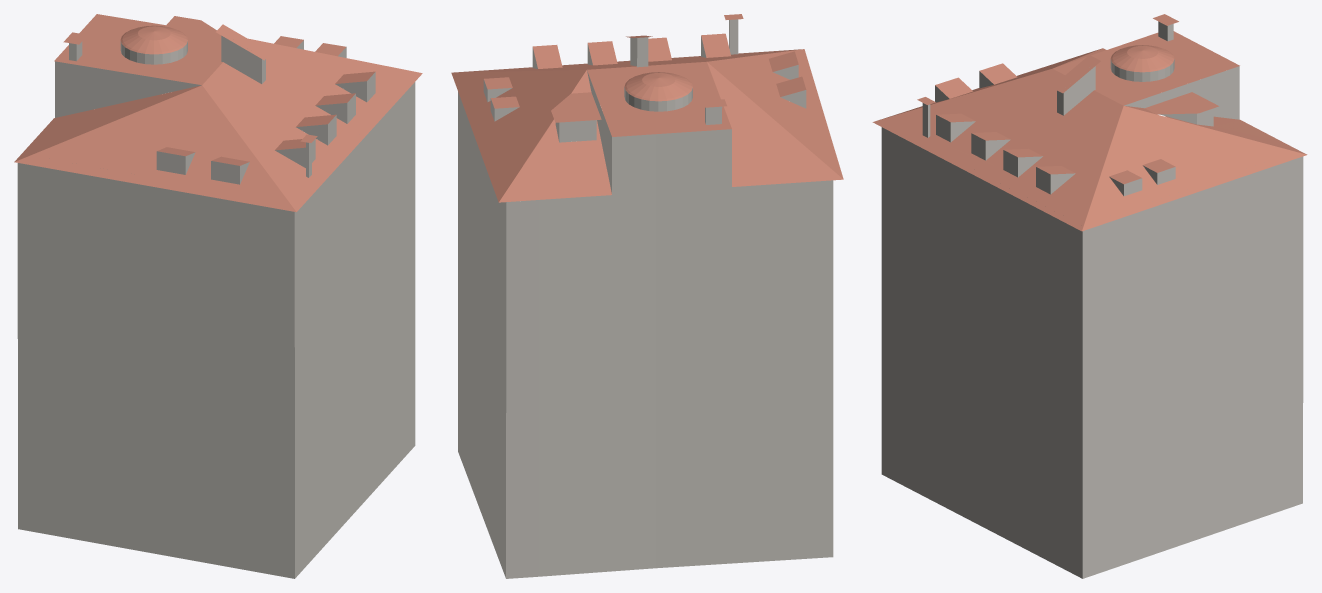
The picture shows the model from 3 angles, left to right: view 1: azimuth 30°, elevation 25°; view 2: azimuth 150°, elevation 25°; view 3: azimuth 270°, elevation 25°; orthographic projection. The views are drawn at different scales.
Parts seen in each view (by area): view 1: swisstopo:swissbuildings3d:4d3c08e2-7789-4b11-9221-8af2b520e; view 2: swisstopo:swissbuildings3d:4d3c08e2-7789-4b11-9221-8af2b520e; view 3: swisstopo:swissbuildings3d:4d3c08e2-7789-4b11-9221-8af2b520e.
Part boxes in pixels (box(x1,y1,x2,y2)): swisstopo:swissbuildings3d:4d3c08e2-7789-4b11-9221-8af2b520e: box(14, 14, 422, 578); swisstopo:swissbuildings3d:4d3c08e2-7789-4b11-9221-8af2b520e: box(451, 14, 843, 578); swisstopo:swissbuildings3d:4d3c08e2-7789-4b11-9221-8af2b520e: box(872, 14, 1307, 578).
Bounding box in the file's own units: 25.8 × 28.45 × 25.87.
